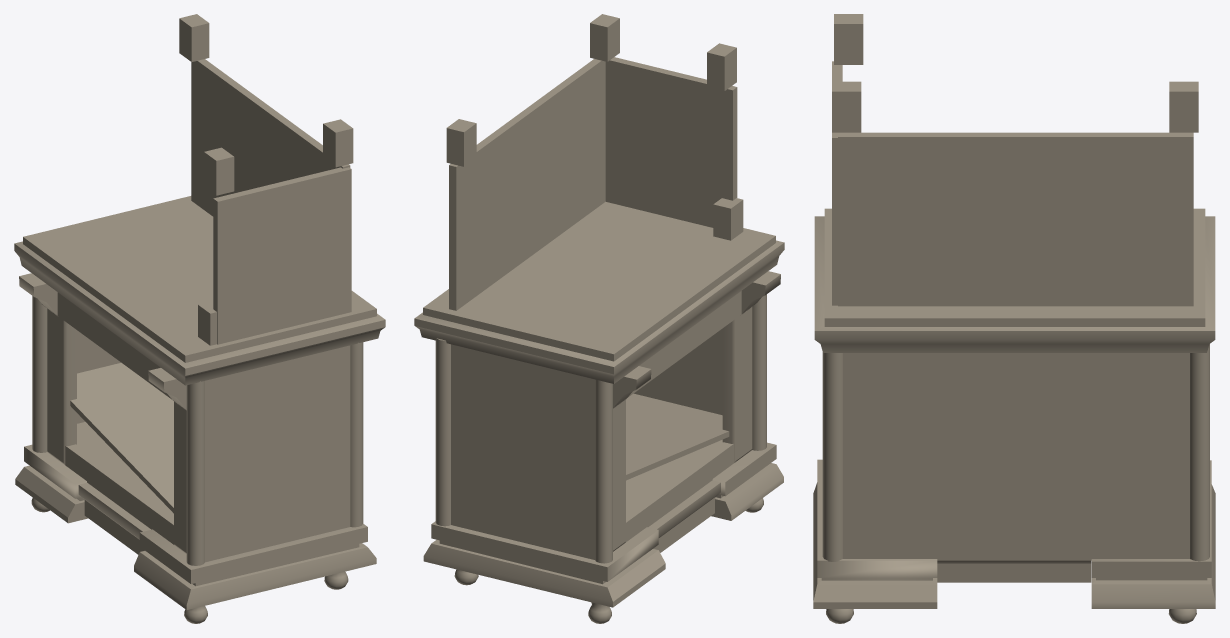
File: Cupboard_08A_Lod0.fbx
3 renders of one model, left to right at view 1: azimuth 30°, elevation 25°; view 2: azimuth 150°, elevation 25°; view 3: azimuth 270°, elevation 25°, orthographic. The views are drawn at different scales.
Parts seen in each view (by area): view 1: Cupboard_08A_Lod0; view 2: Cupboard_08A_Lod0; view 3: Cupboard_08A_Lod0.
Part boxes in pixels (box(x1,y1,x2,y2)): Cupboard_08A_Lod0: box(14, 14, 385, 623); Cupboard_08A_Lod0: box(414, 14, 784, 623); Cupboard_08A_Lod0: box(813, 14, 1215, 623).
Bounding box in the file's own units: 69.85 × 146 × 99.13.
